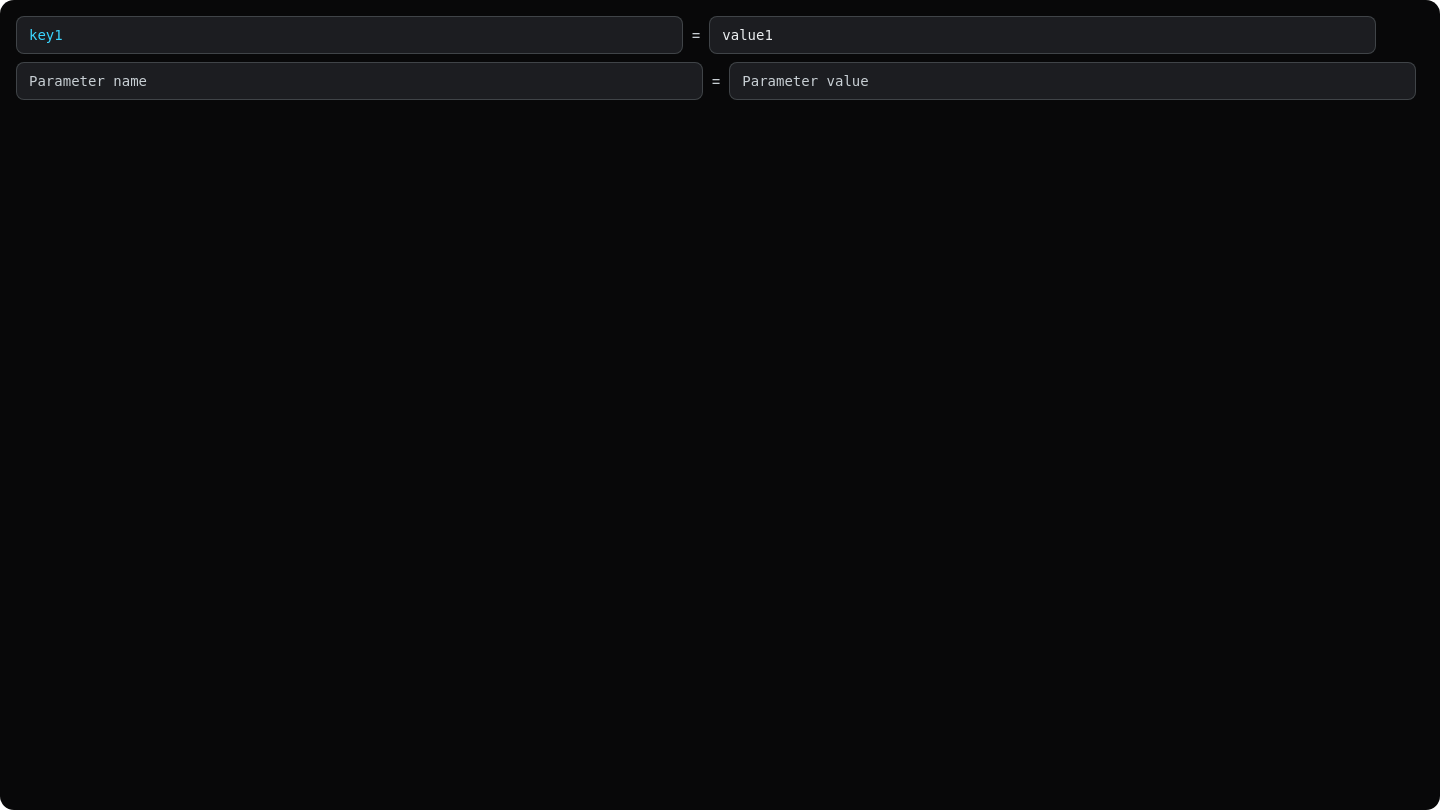
Test: ParamsEditor › allows editing existing parameter
Click the button with test id "param-row-0". click: (696, 35)
box: [16, 16, 1376, 54]
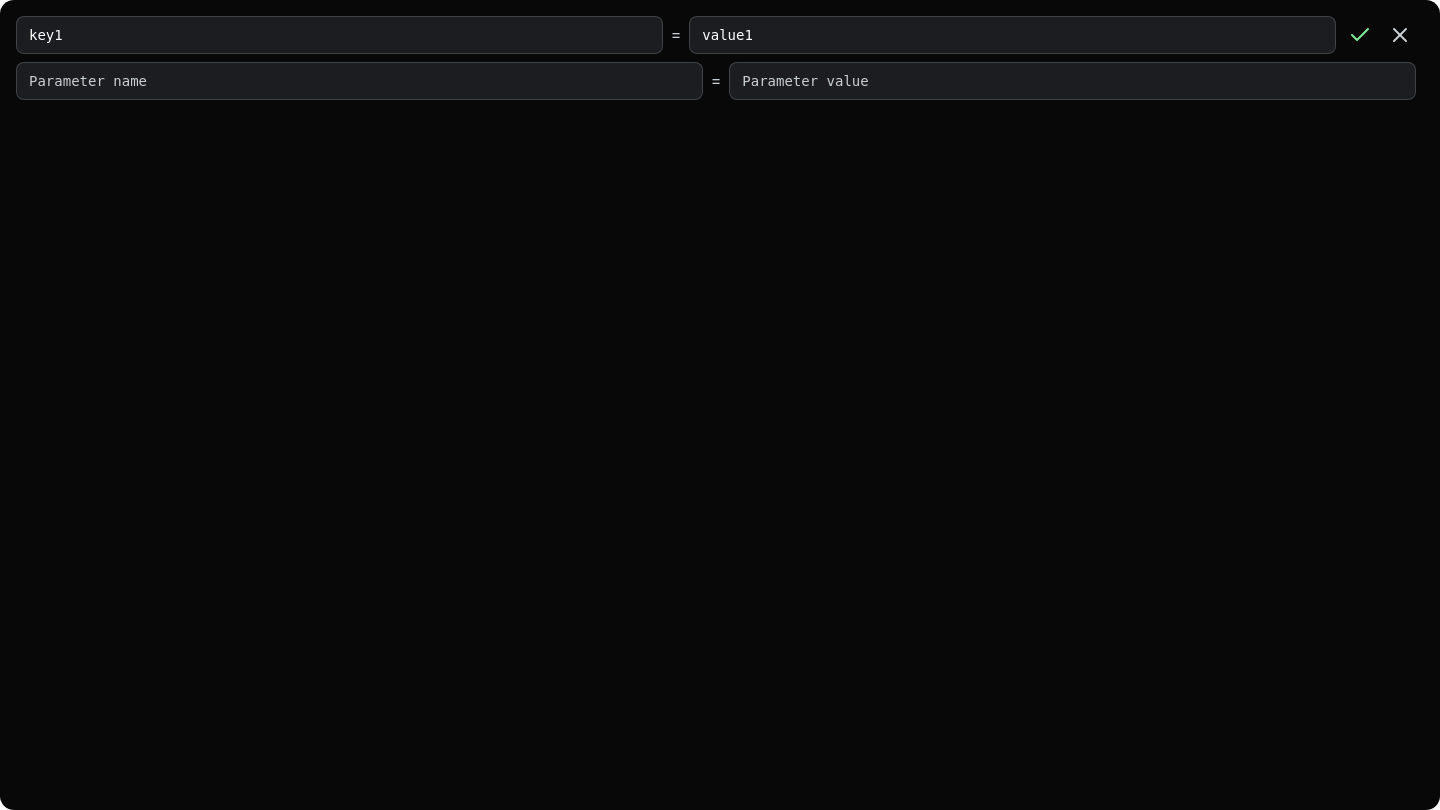
Expected: the field with test id "param-key-input-0" is shown, [16, 16, 663, 54]
Expected: the field with test id "param-value-input-0" is shown, [689, 16, 1336, 54]
